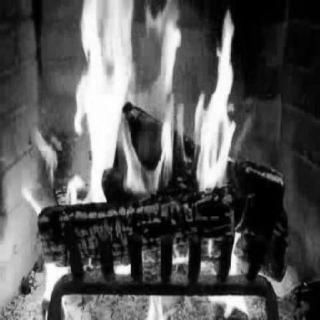Fire: (3, 2, 303, 314)
